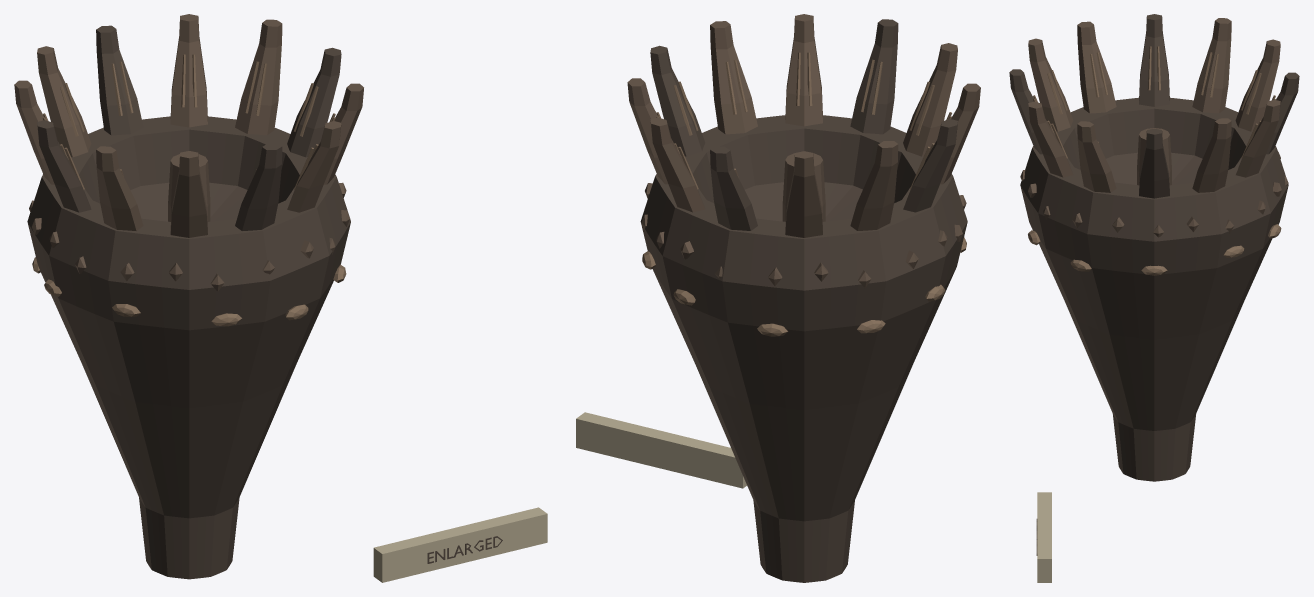
The model's file is monetianthus.glb.
The picture shows the model from 3 angles, left to right: view 1: azimuth 30°, elevation 25°; view 2: azimuth 150°, elevation 25°; view 3: azimuth 270°, elevation 25°; orthographic projection. The views are drawn at different scales.
Parts seen in each view (by area): view 1: monetianthus-preserved-flower-enlarged; view 2: monetianthus-preserved-flower-enlarged; view 3: monetianthus-preserved-flower-enlarged.
Boxes of the visible parts, x1,y1,x2,y2 form: monetianthus-preserved-flower-enlarged: (14, 14, 547, 582); monetianthus-preserved-flower-enlarged: (576, 14, 980, 582); monetianthus-preserved-flower-enlarged: (1009, 14, 1299, 582).
Size of the model in its own units: 0.1435 by 0.149 by 0.099.
